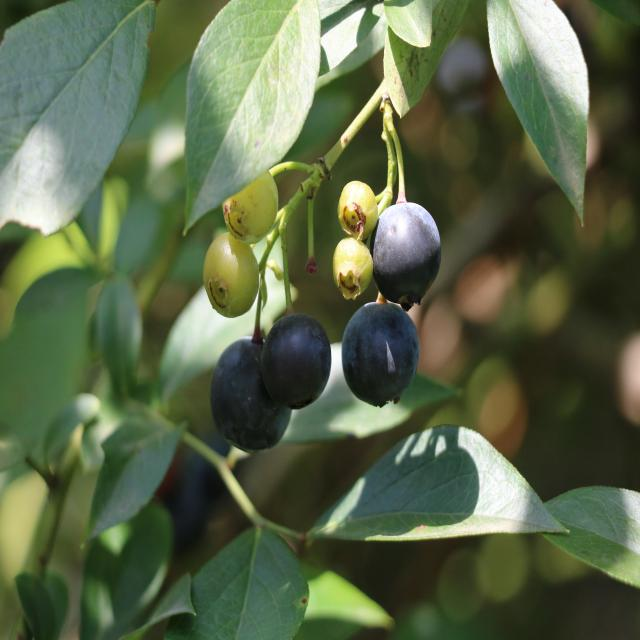blueberry: (207, 337, 295, 453), (341, 299, 421, 403), (368, 197, 442, 299), (260, 310, 332, 407)
blueberry-unripe: (202, 233, 262, 321), (220, 169, 278, 246), (329, 232, 375, 301), (334, 177, 380, 239)
